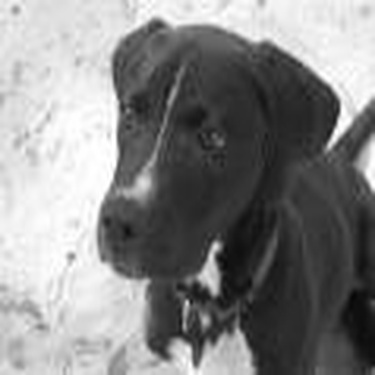dog: (91, 3, 369, 370)
